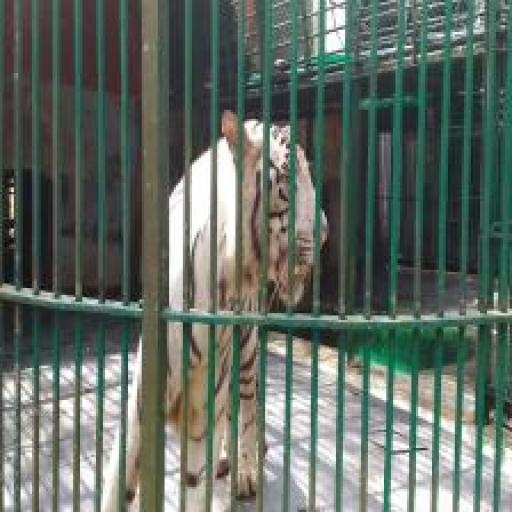Tiger: (92, 105, 329, 511)
